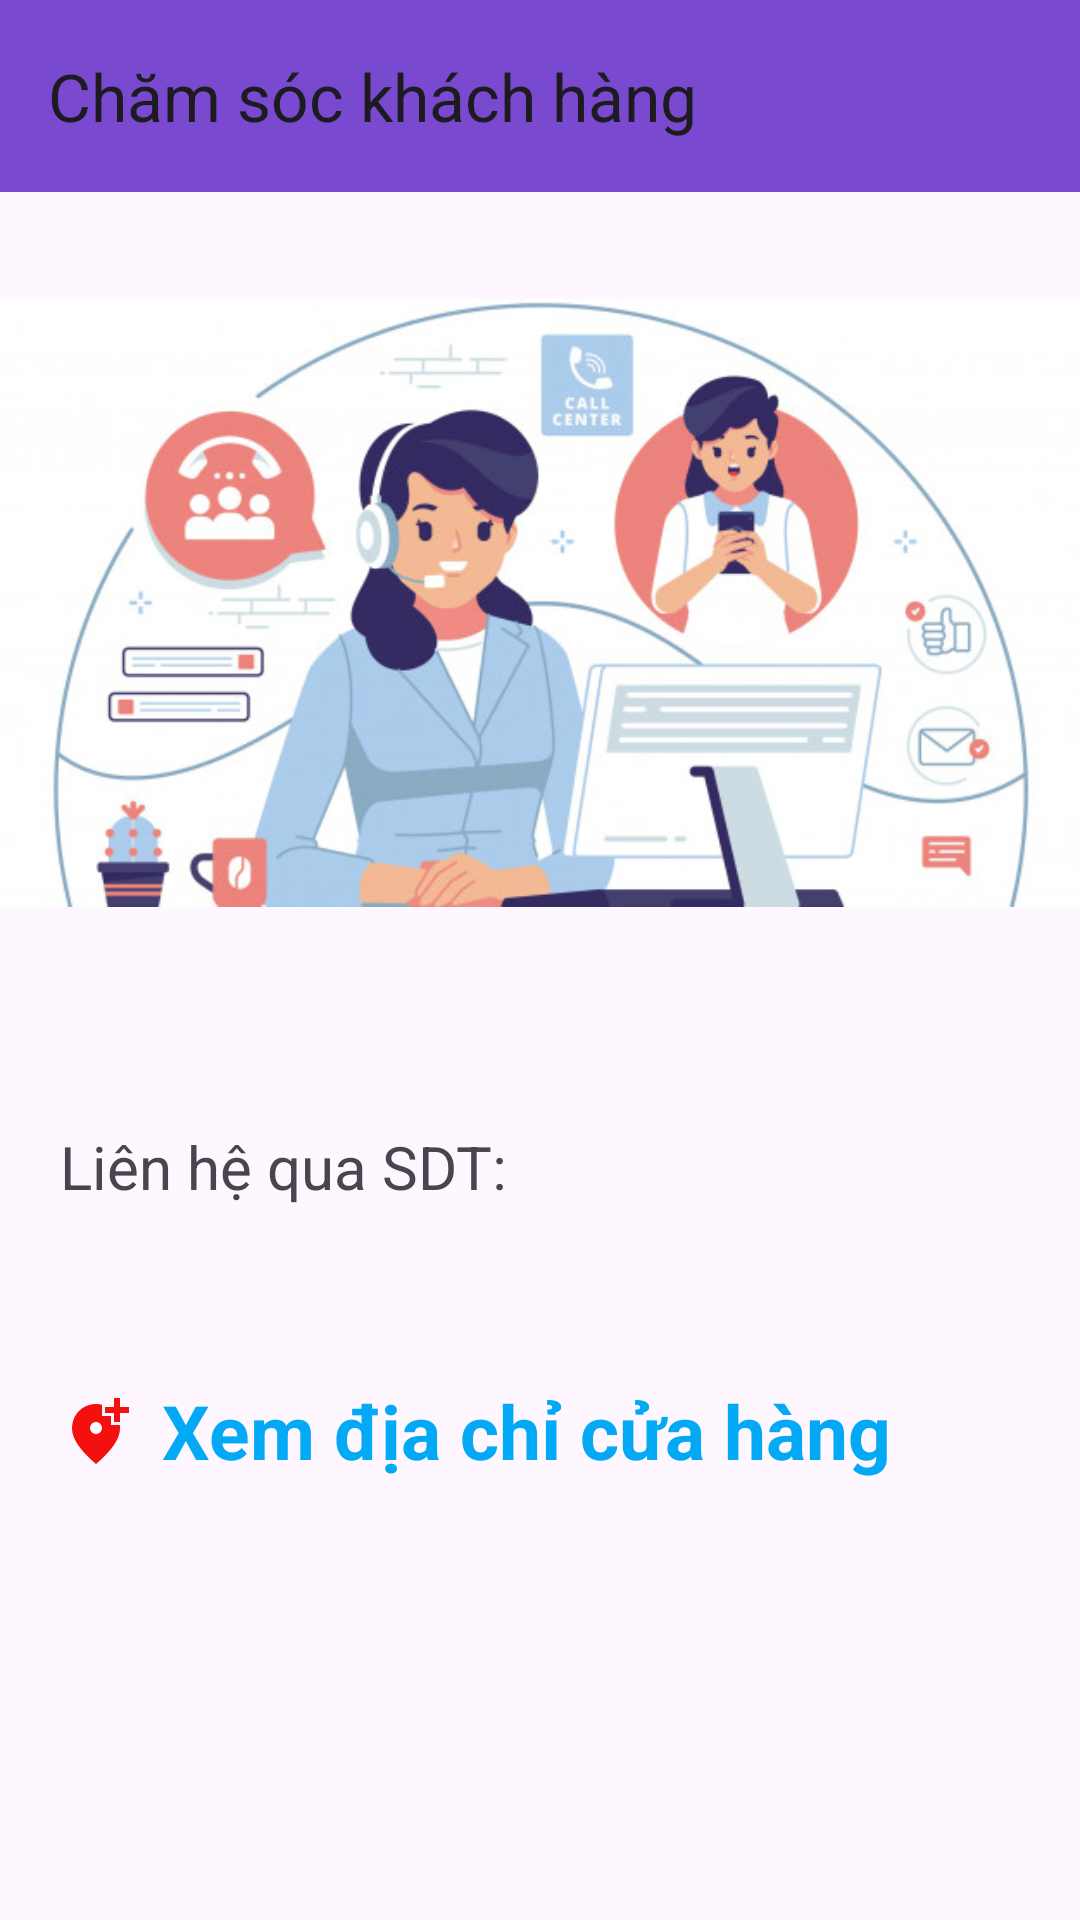

Where to tap for icons on this 1080 × 1920 app screen, as point (x, y):
map: point (100, 1431)
